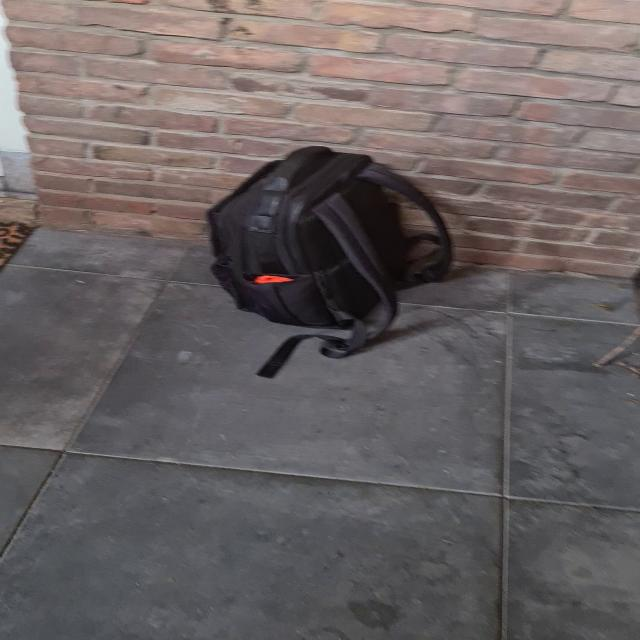backpack: (196, 140, 461, 358)
